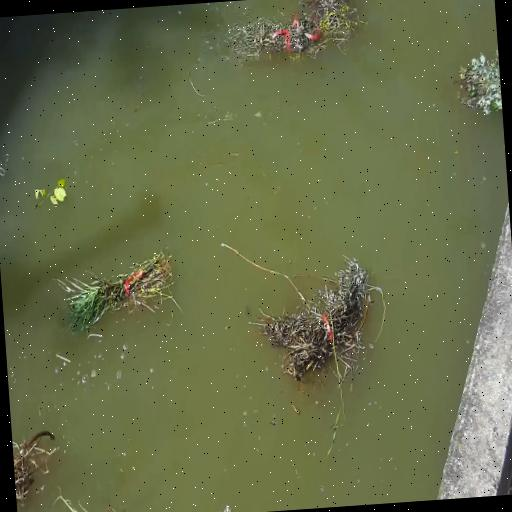twig: (262, 256, 380, 391), (66, 246, 172, 328), (222, 0, 367, 59), (11, 416, 60, 512), (456, 48, 502, 121), (19, 165, 72, 213)
